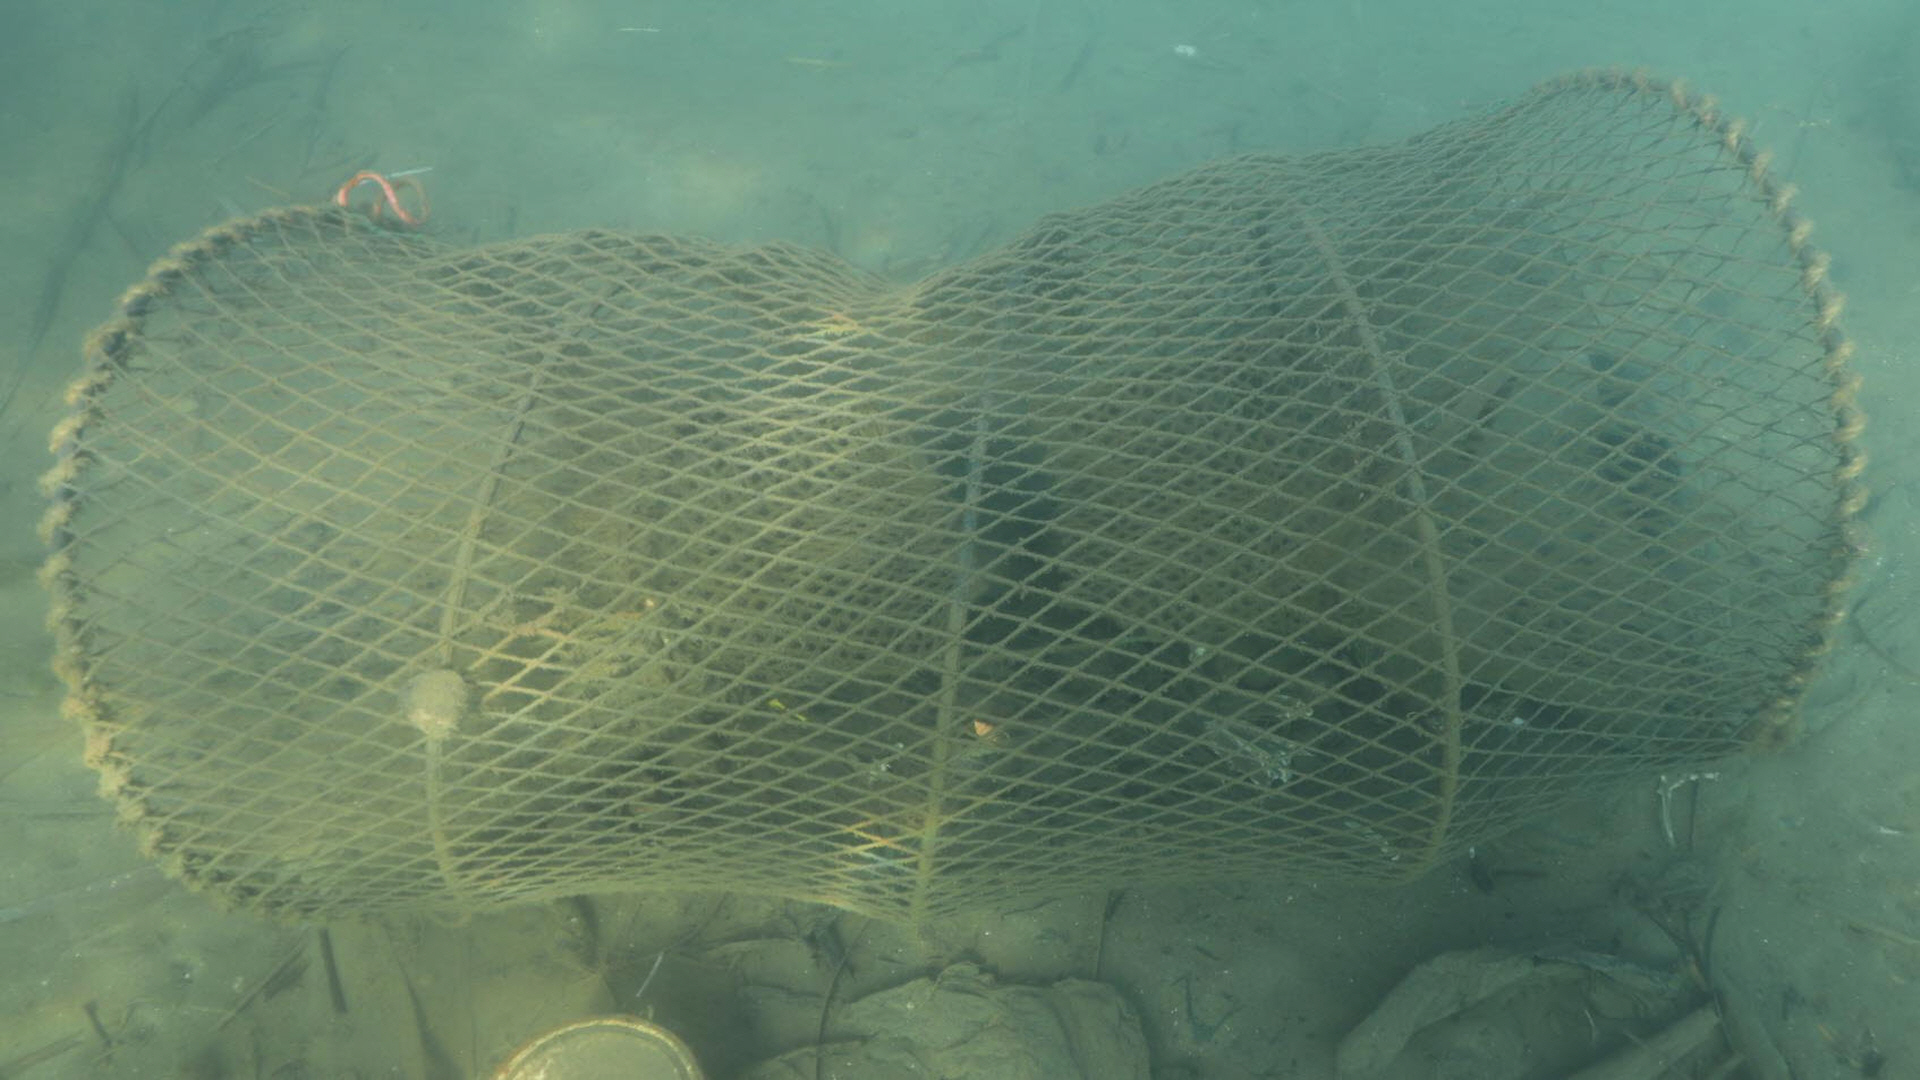spring fish trap: (37, 61, 1875, 924)
